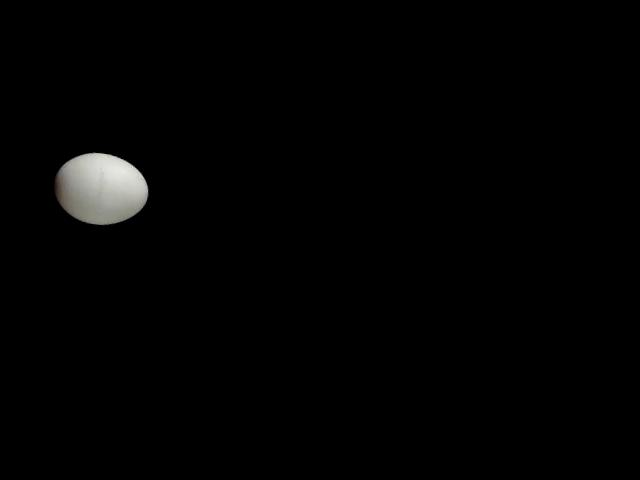egg: (49, 147, 152, 230)
